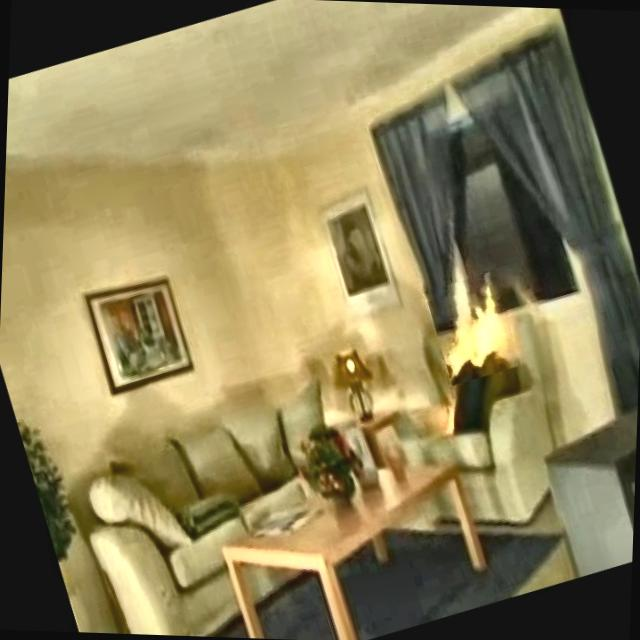fire: (428, 271, 536, 376)
